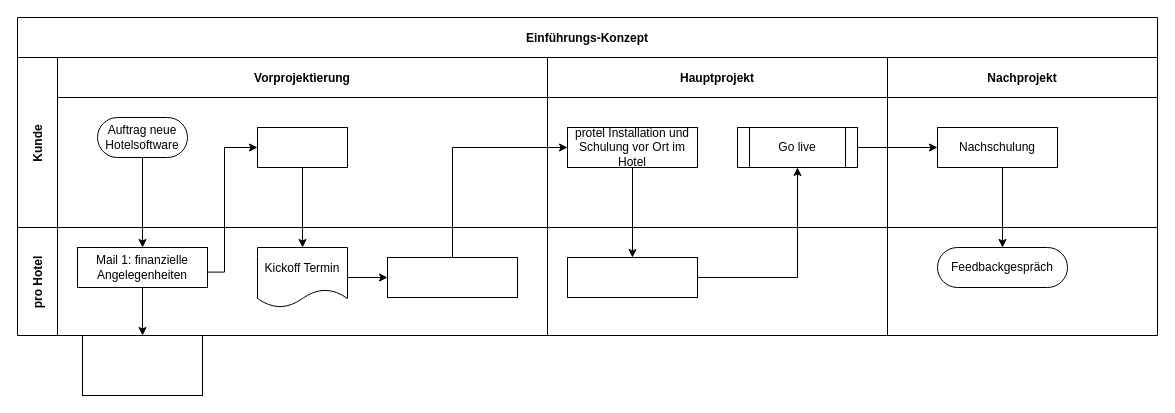
This 1175x413 diagram has some shape labels left out. The centre of each missing label's shape, as x and y in pixels:
"Ausfüllen und Rücksenden der Unterlagen" goes at point 302,147.
"Installation Schnittstellen" goes at point 632,277.
"Mail 2: Checklisten Hotelsoftware inkl. Projektplan" goes at point 142,365.
"protel Vorinstallation" goes at point 452,277.
